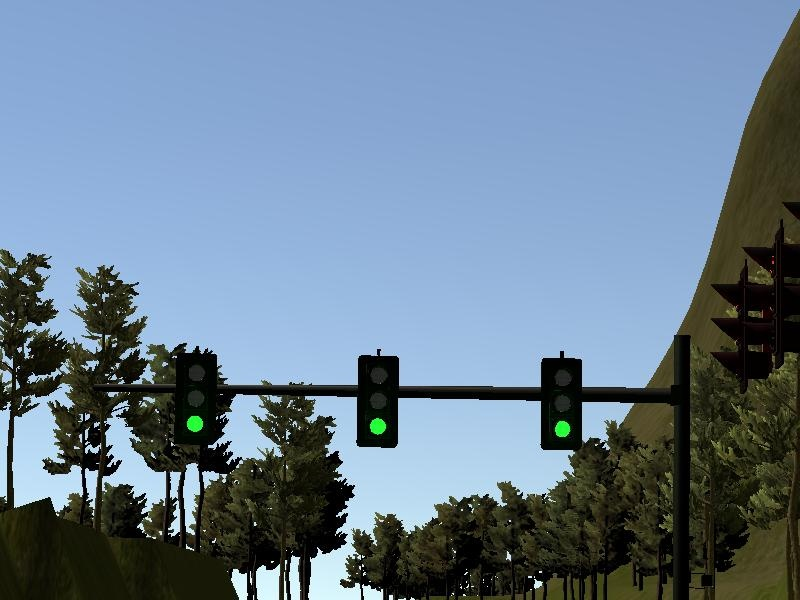traffic_light_green: (145, 347, 673, 452)
